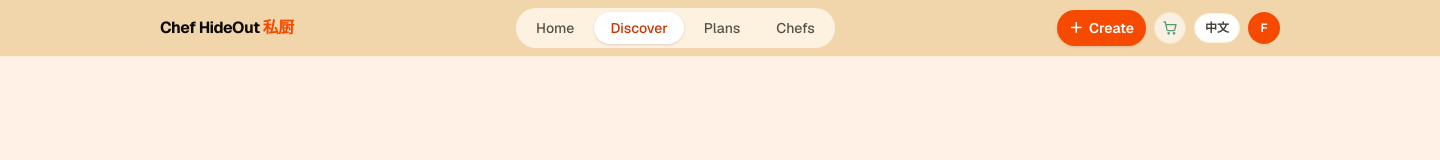
Test: NavBar mobile primary navigation › links mobile users to Chefs and keeps Cart as a header coming-soon control
This screenshot has width=1440, height=160.
Click the button named "Cart": {"x": 1170, "y": 28} [1154,12,1186,44]
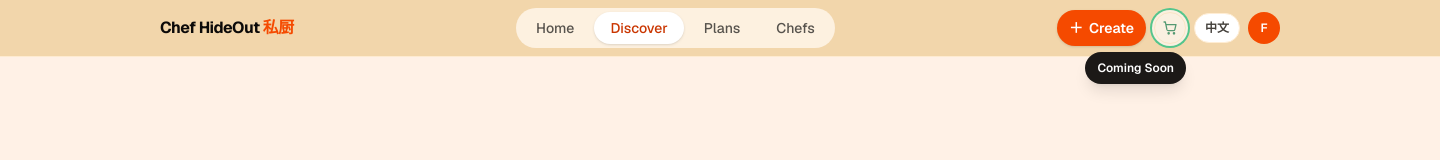
Expected: the message reads "Coming Soon", [1097,60,1174,76]
